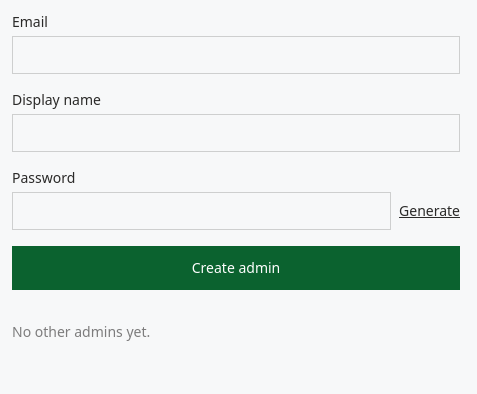
shows the create error inline, not as a toast, so it stays next to the form
Step 1. Type "dupe@b.com" into the field labelled "Email" → [236, 55], box top-left (12, 36), bottom-right (460, 74)
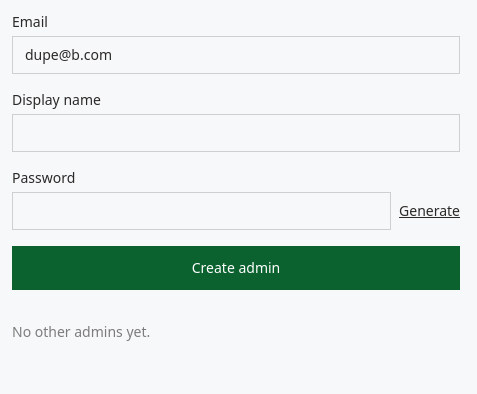
Step 2. Type "strong-pass" into the field labelled "Password" → [202, 211], box top-left (12, 192), bottom-right (391, 230)
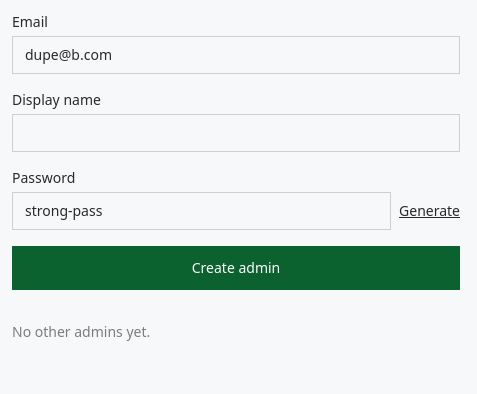
Step 3. Click the button "Create admin" → [236, 268], box top-left (12, 246), bottom-right (460, 290)
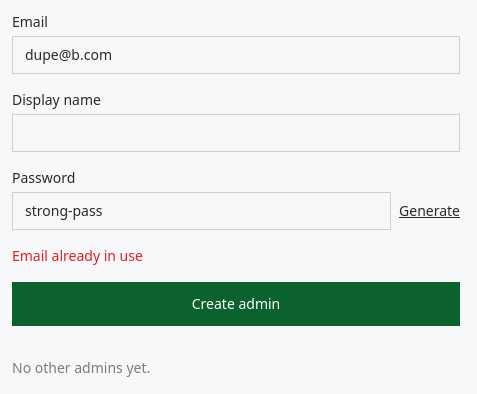
expect the message reads "Email already in use": met, box top-left (12, 246), bottom-right (143, 265)
